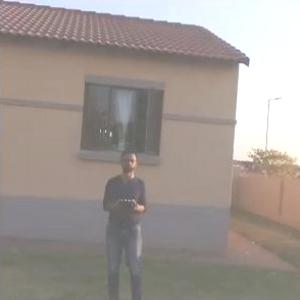follow: (97, 143, 154, 299)
